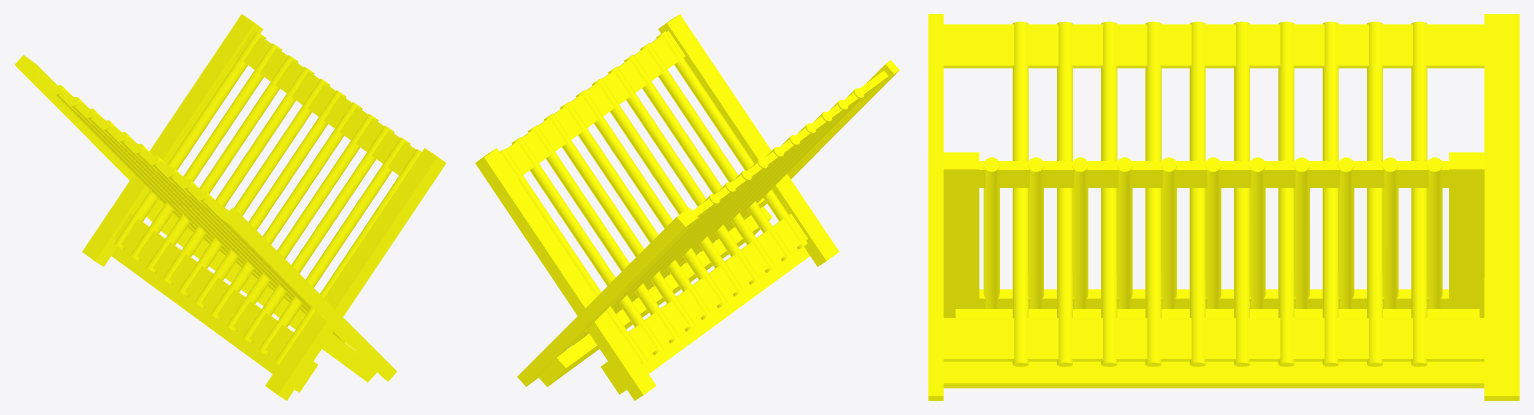
Rendered from SM_DrainingBoard01.glb.
3 views of the same model, side by side, from view 1: azimuth 30°, elevation 25°; view 2: azimuth 150°, elevation 25°; view 3: azimuth 270°, elevation 25° (orthographic). The views are drawn at different scales.
Visible parts, largest first — view 1: SM_DrainingBoard01; view 2: SM_DrainingBoard01; view 3: SM_DrainingBoard01.
Part boxes in pixels (<box>): SM_DrainingBoard01: <box>15,14,446,400</box>; SM_DrainingBoard01: <box>475,14,899,400</box>; SM_DrainingBoard01: <box>928,14,1519,400</box>.
Size of what is drawn, in the model's own units: 0.4155 by 0.3677 by 0.6902.
Materials: 1 (1 with a texture image).
